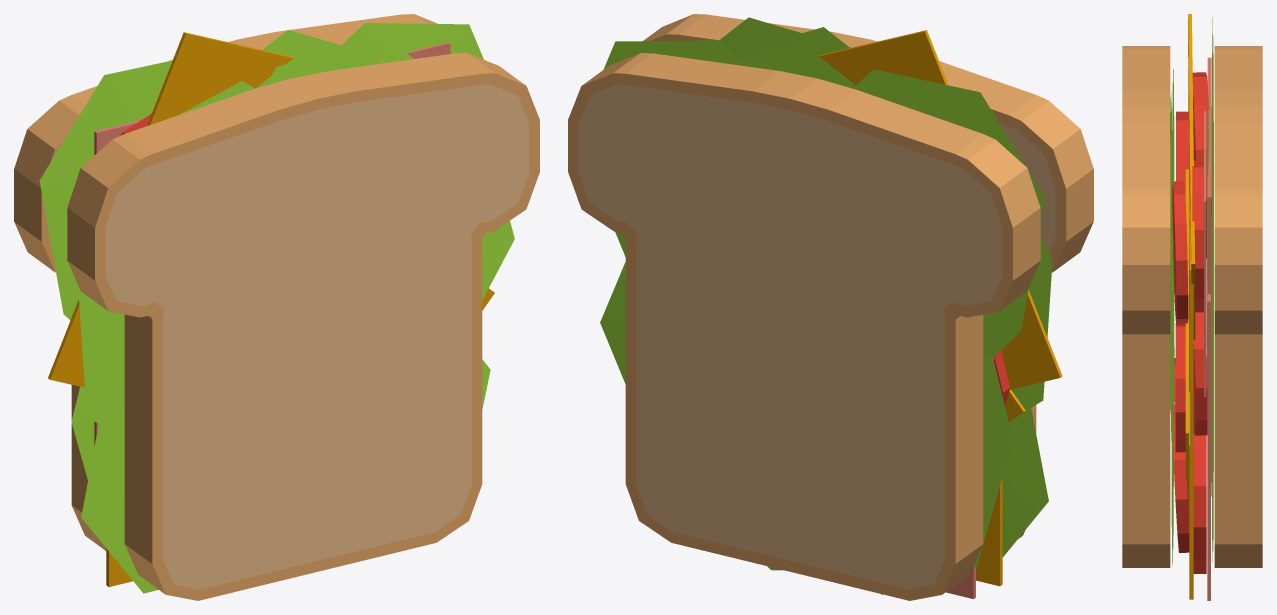
Rendered from Sandwich.fbx.
3 views of the same model, side by side, from view 1: azimuth 30°, elevation 25°; view 2: azimuth 150°, elevation 25°; view 3: azimuth 270°, elevation 25° (orthographic). The views are drawn at different scales.
Visible parts, largest first — view 1: Sandwich; view 2: Sandwich; view 3: Sandwich.
Part boxes in pixels (bbox=[...]): Sandwich: bbox=[14, 14, 539, 600]; Sandwich: bbox=[568, 14, 1093, 600]; Sandwich: bbox=[1122, 14, 1262, 600].
Size of the model in its own units: 91.8 by 105 by 27.21.
